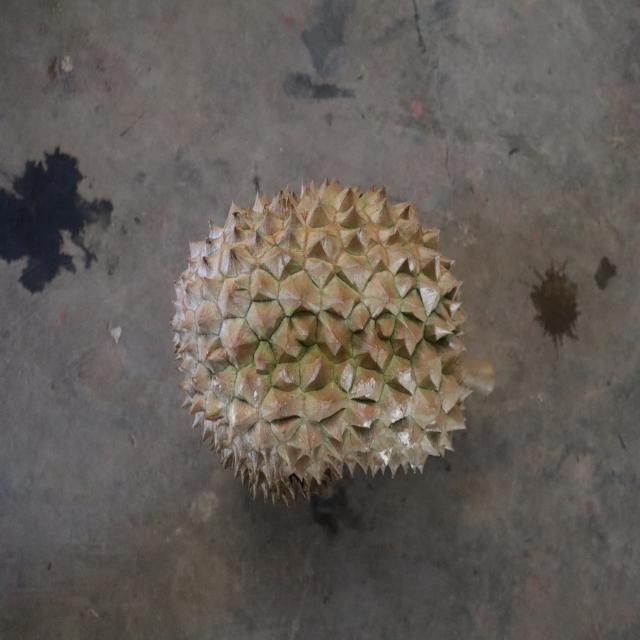mature: (170, 173, 472, 506)
